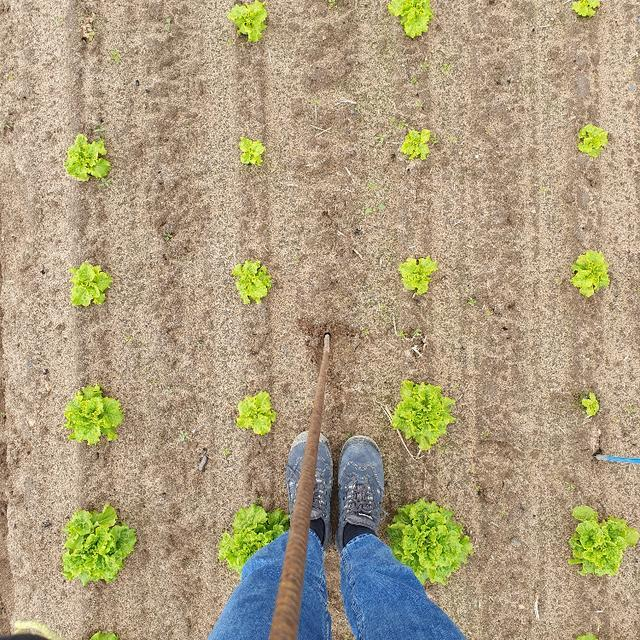Lettuce: (382, 492, 480, 590), (217, 494, 293, 584), (60, 502, 138, 585), (568, 503, 640, 581), (390, 372, 452, 453), (67, 383, 128, 450), (225, 254, 277, 314), (60, 128, 113, 185), (68, 257, 115, 315), (567, 248, 615, 304), (385, 0, 440, 46), (232, 388, 275, 440), (230, 0, 270, 48), (395, 122, 438, 163), (400, 252, 437, 296), (575, 120, 615, 157), (570, 0, 610, 25), (577, 388, 605, 422), (237, 137, 263, 168)
